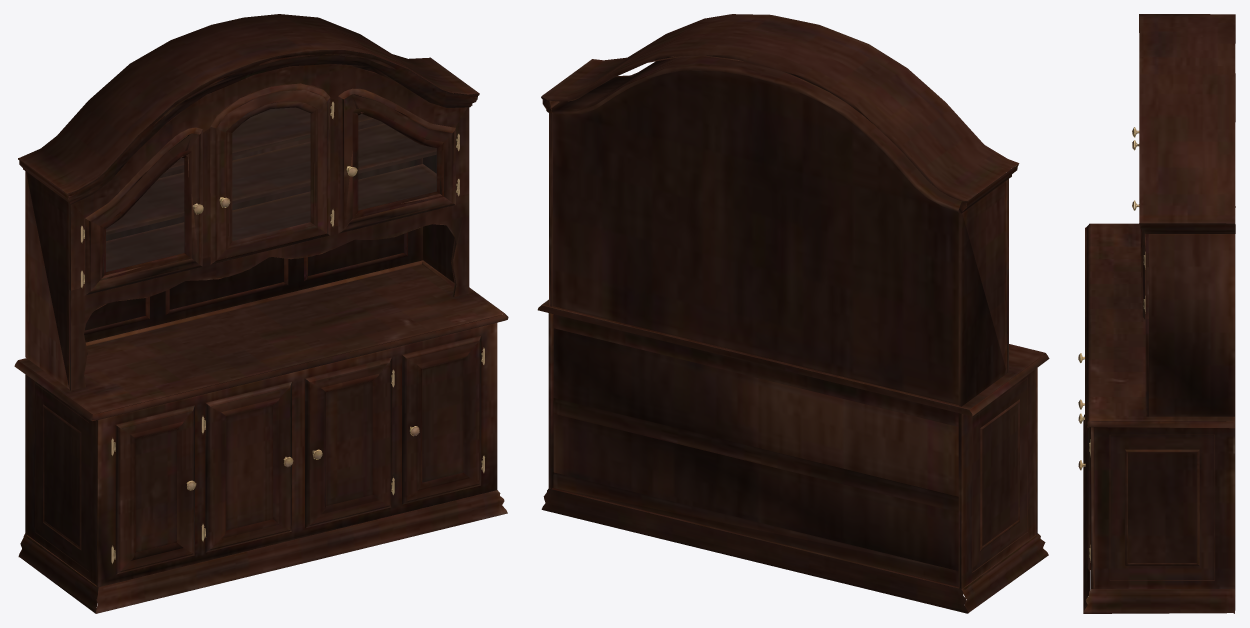
Rendered from cupboard.glb.
The picture shows the model from 3 angles, left to right: view 1: azimuth 30°, elevation 25°; view 2: azimuth 150°, elevation 25°; view 3: azimuth 270°, elevation 25°; orthographic projection. The views are drawn at different scales.
Parts seen in each view (by area): view 1: cupboard; view 2: cupboard; view 3: cupboard.
Part boxes in pixels (x1,y1,x2,y2): cupboard: (14, 14, 508, 613); cupboard: (537, 14, 1049, 613); cupboard: (1078, 14, 1235, 613).
Size of the model in its own units: 1.7 by 1.88 by 0.5634.
3 materials, 2 textured.
